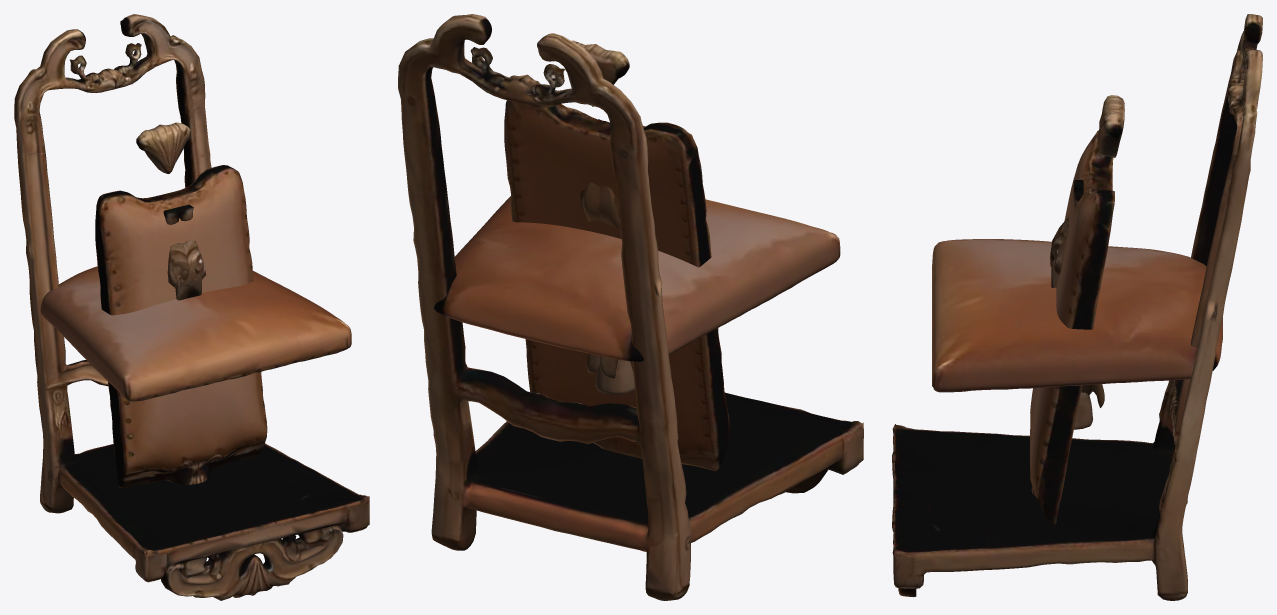
3 renders of one model, left to right at view 1: azimuth 30°, elevation 25°; view 2: azimuth 150°, elevation 25°; view 3: azimuth 270°, elevation 25°, orthographic. The views are drawn at different scales.
Parts seen in each view (by area): view 1: root.0, root.1, root.2, root.4, root.3; view 2: root.0, root.2, root.1, root.3, root.4; view 3: root.0, root.2, root.1, root.3, root.4.
Part boxes in pixels (x1,y1,x2,y2): root.0: (14, 14, 369, 600); root.1: (95, 122, 267, 487); root.2: (40, 266, 351, 401); root.4: (163, 208, 190, 288); root.3: (176, 204, 205, 282); root.0: (398, 14, 863, 600); root.2: (434, 196, 840, 361); root.1: (504, 40, 729, 471); root.3: (580, 119, 634, 395); root.4: (582, 182, 619, 393); root.0: (892, 14, 1262, 600); root.2: (932, 239, 1222, 392); root.1: (1030, 95, 1124, 524); root.3: (1049, 187, 1104, 407); root.4: (1049, 180, 1104, 429).
Bounding box in the file's own units: 22464 × 44045 × 27360.
Materials: 1 (1 with a texture image).
